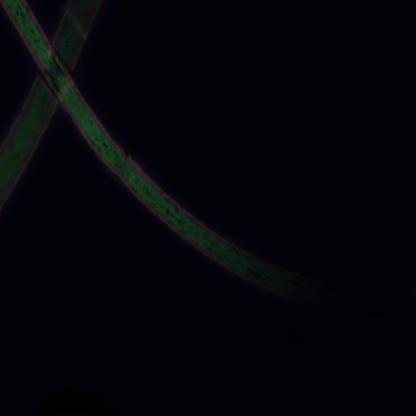Microfibre: (0, 0, 328, 309), (0, 3, 102, 208)
